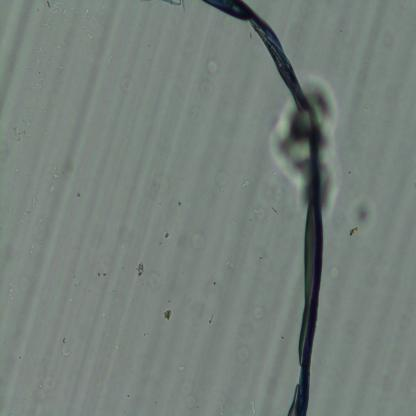Background material: (18, 13, 77, 95), (305, 81, 341, 215), (268, 101, 312, 208), (1, 189, 43, 250), (141, 163, 173, 202), (348, 195, 376, 238), (138, 258, 166, 288), (115, 63, 138, 97), (185, 230, 209, 250), (212, 165, 229, 193), (230, 347, 251, 368), (254, 294, 266, 326), (249, 203, 268, 223), (10, 123, 25, 143), (158, 222, 173, 240), (207, 58, 221, 76), (59, 338, 70, 360), (248, 398, 257, 414), (135, 262, 145, 276), (162, 308, 172, 322), (242, 179, 251, 190), (48, 184, 56, 193), (52, 172, 60, 180), (178, 365, 185, 371)
Cotton: (202, 0, 321, 413)
